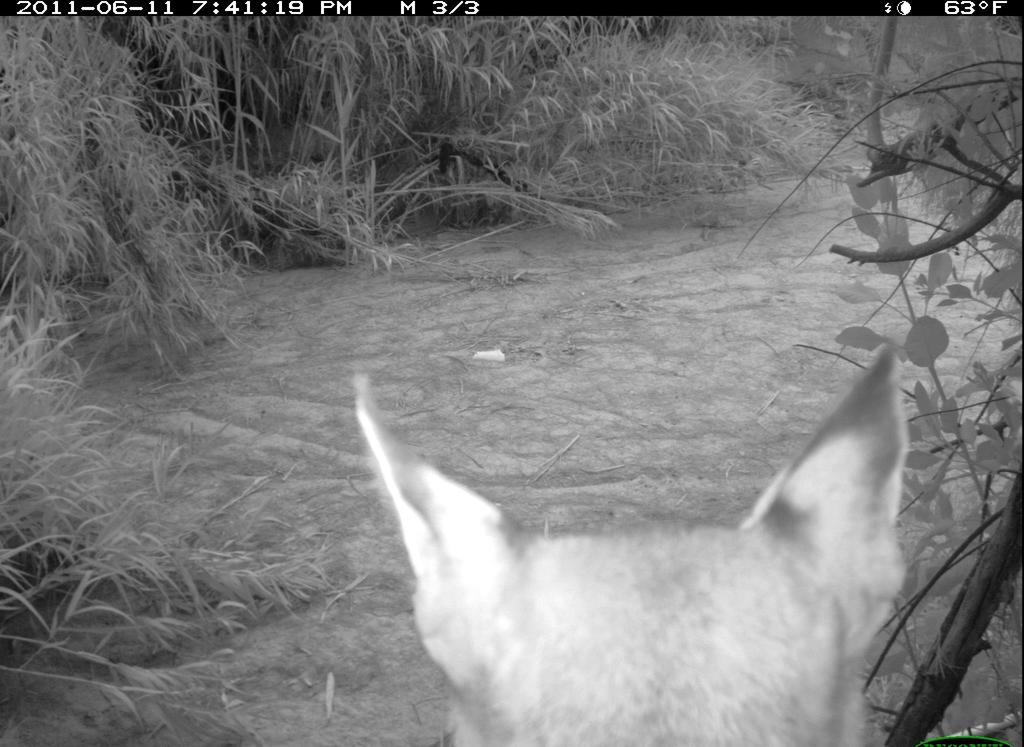bobcat: (355, 365, 914, 747)
